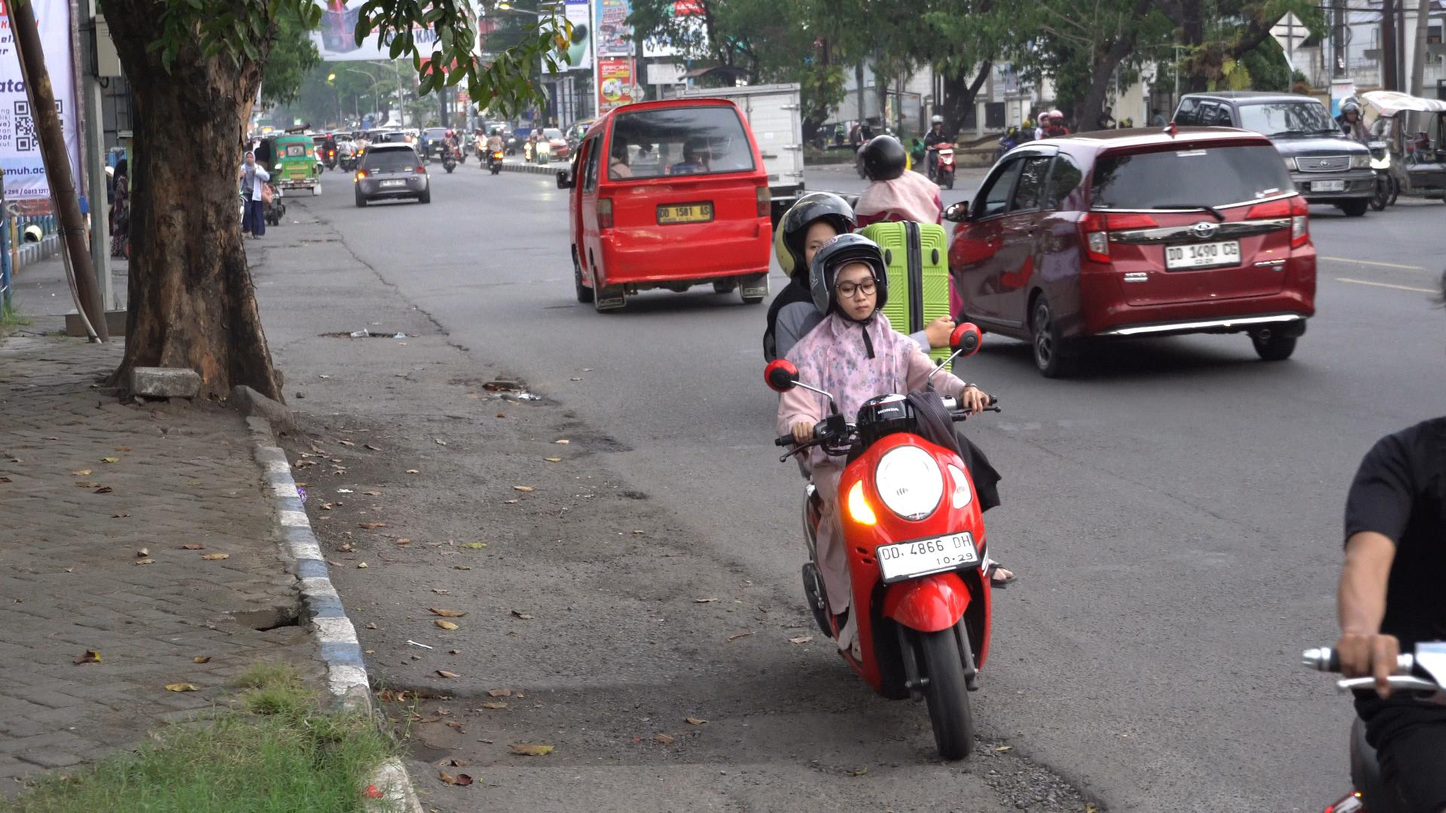number-plate: (874, 525, 979, 588)
